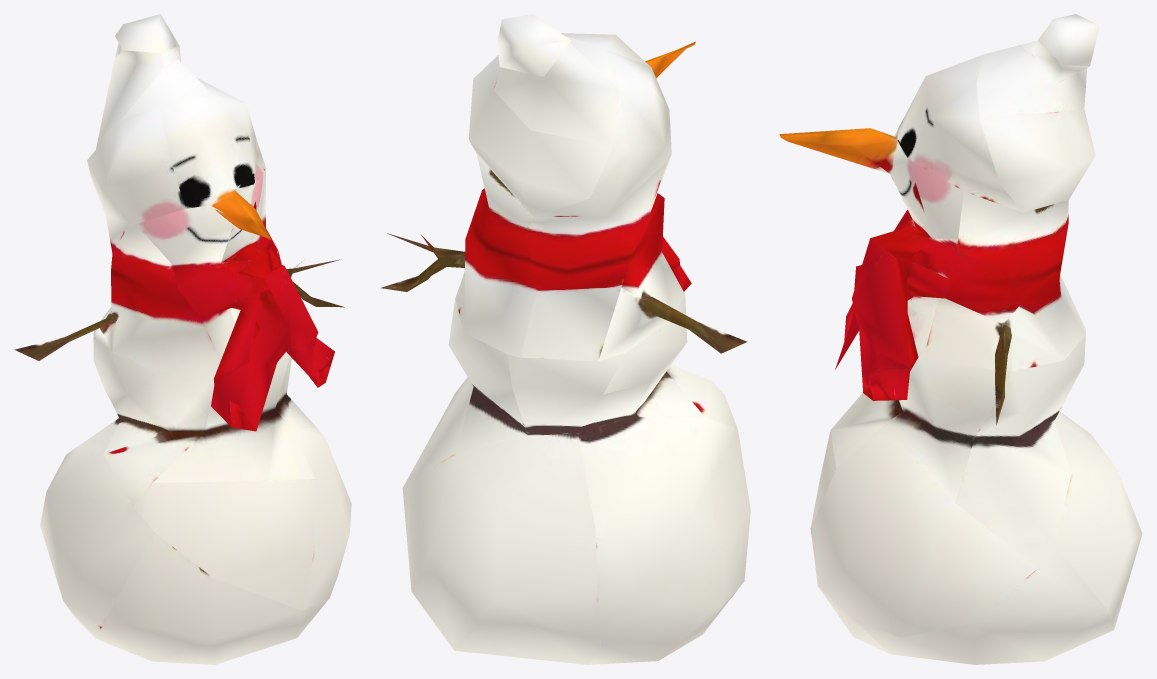
Rendered from snowman.glb.
3 renders of one model, left to right at view 1: azimuth 30°, elevation 25°; view 2: azimuth 150°, elevation 25°; view 3: azimuth 270°, elevation 25°, orthographic. The views are drawn at different scales.
Size of the model in its own units: 1.12 by 1.87 by 1.
1 material, 1 textured.
